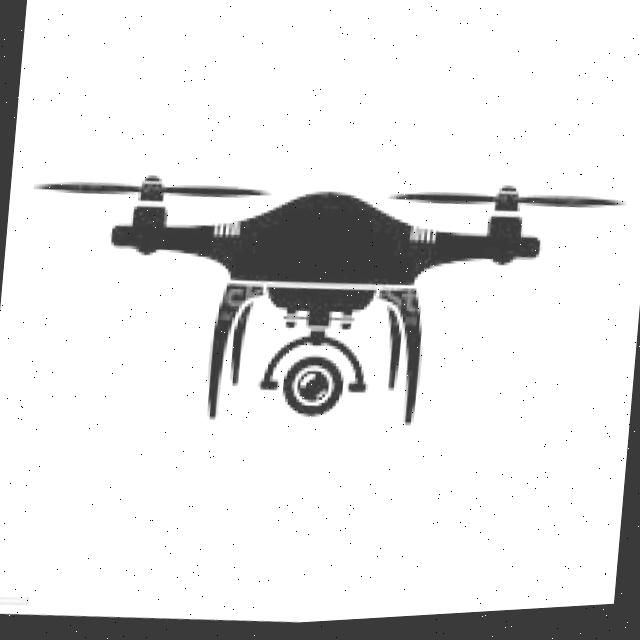drone: (0, 88, 635, 541)
